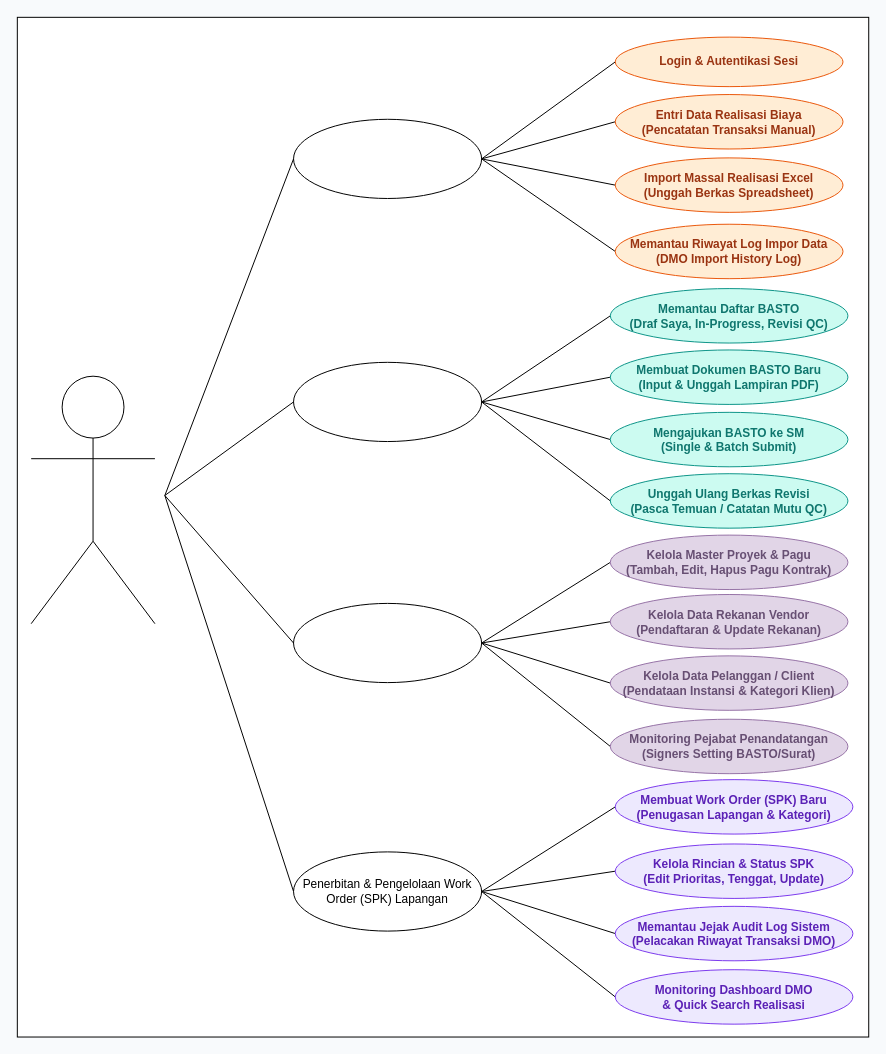
This 886x1054 diagram has some shape labels left out. Here are the shapes that lost their labels. From the top down, the box of each, then its label:
(293, 118, 482, 198): Operasional Realisasi Biaya & Pengolahan Excel Massal
(293, 361, 482, 442): Inisiasi, Pengajuan & Revisi Dokumen BASTO
(30, 375, 155, 624): DMO
(293, 602, 482, 683): Pengelolaan Master Data Terpusat (Proyek, Vendor & Client)
